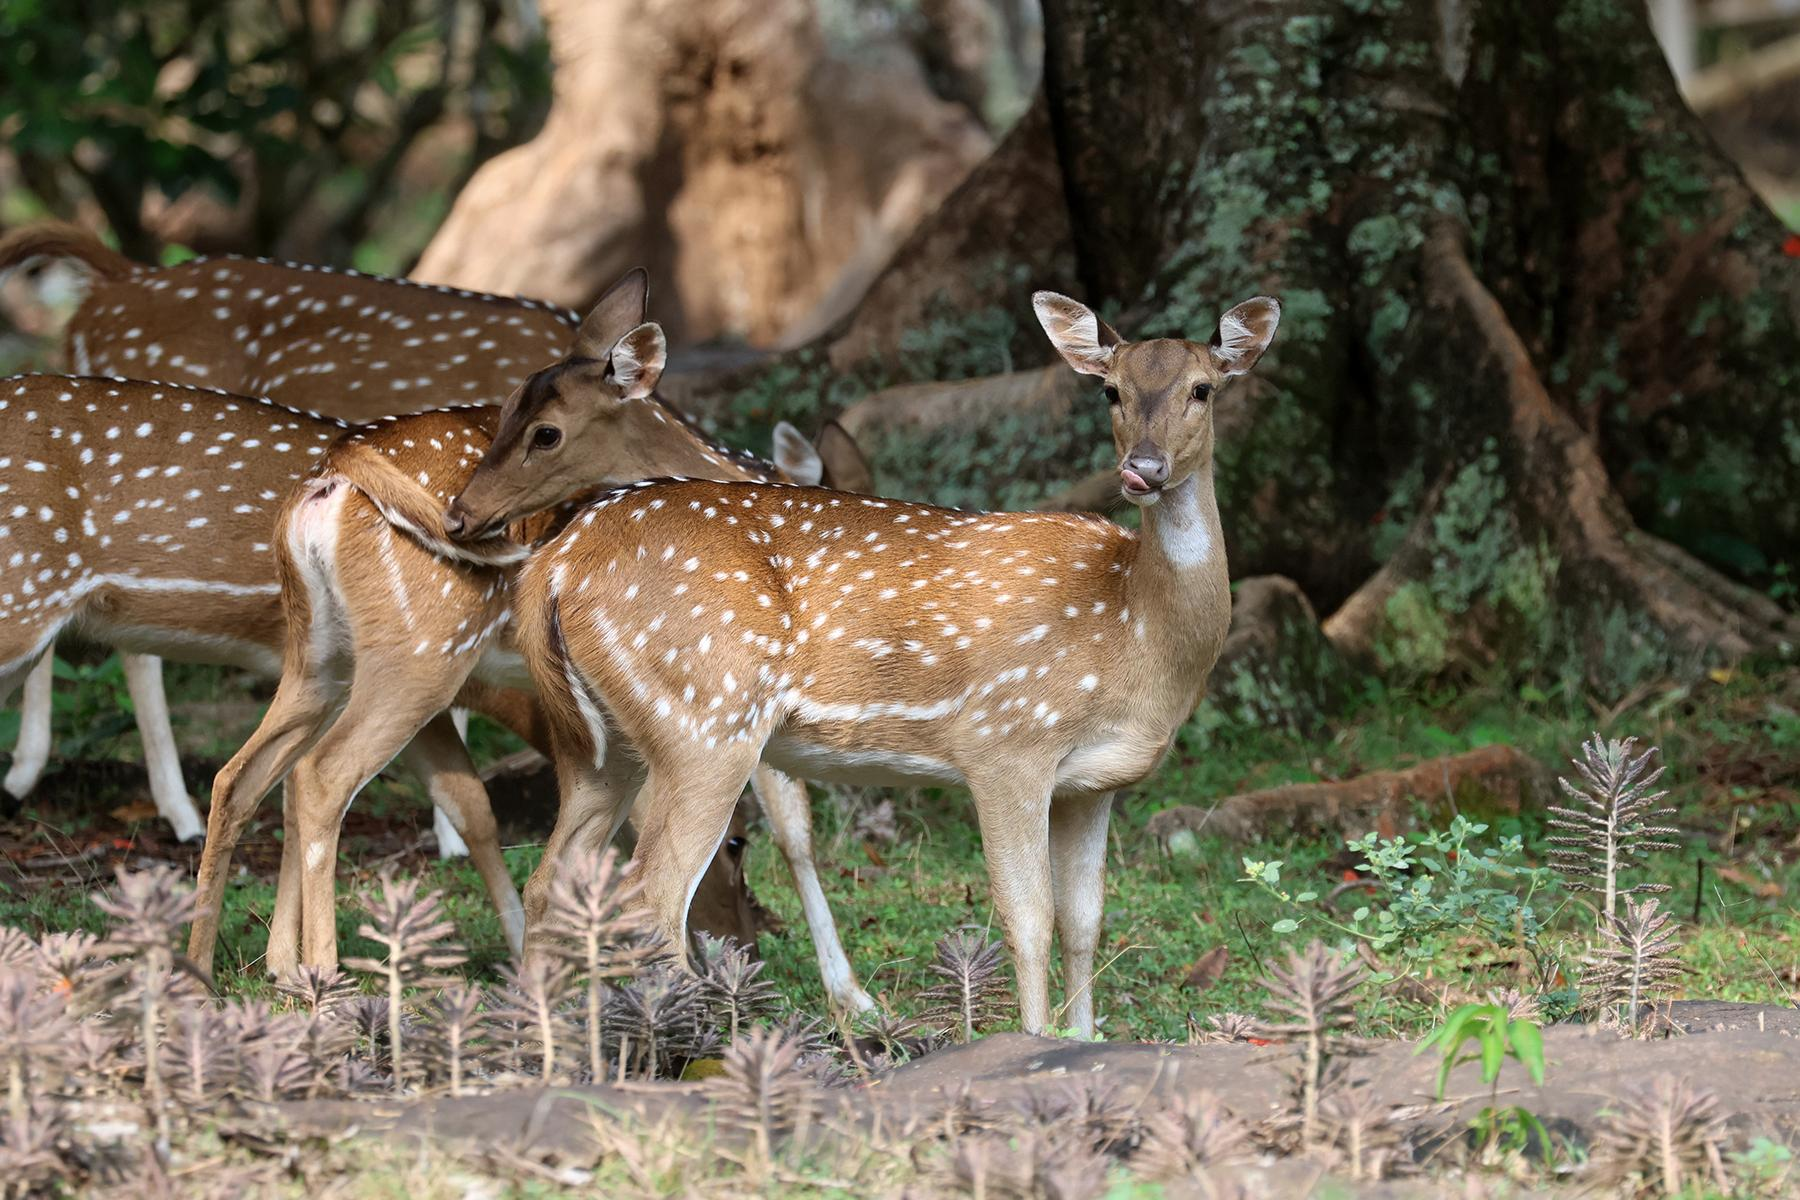Deer: (514, 292, 1280, 1037), (190, 271, 786, 974), (990, 637, 1004, 650)
